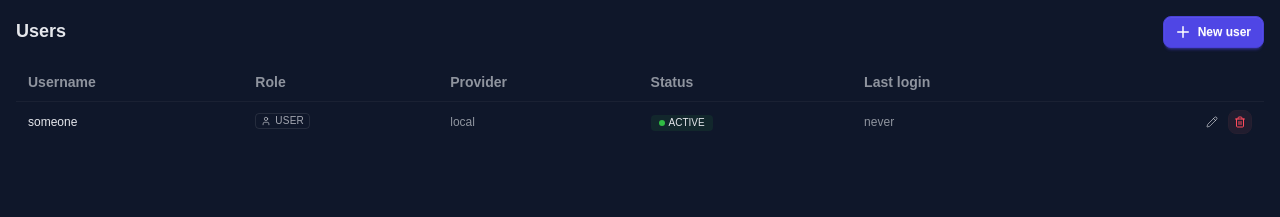
Test case: a failed delete shows its message and keeps the list
Expected: the cell "someone" is shown, [16,102,243,142]
What coordinates should you click on to do the following:
click the button named "Delete someone"
I would click on:
 (1240, 122)
Its box is [1228,110,1252,134].
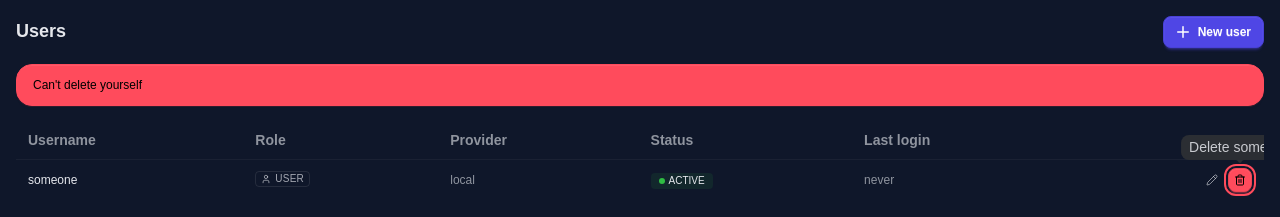
Expected: the cell "someone" is shown, [16,160,243,200]
Expected: the message reads "Can't delete yourself", [33,78,142,92]
